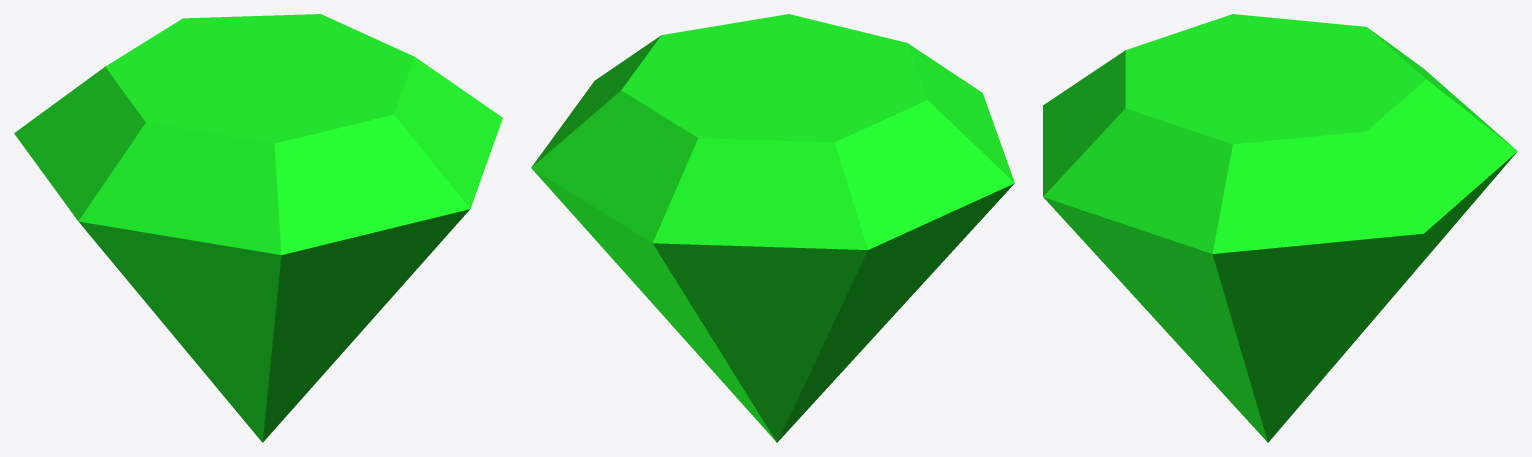
File: gem1.fbx
3 views of the same model, side by side, from view 1: azimuth 30°, elevation 25°; view 2: azimuth 150°, elevation 25°; view 3: azimuth 270°, elevation 25° (orthographic).
Parts seen in each view (by area): view 1: Gem1; view 2: Gem1; view 3: Gem1.
Part boxes in pixels (<box>): Gem1: <box>14,14,502,442</box>; Gem1: <box>531,14,1014,442</box>; Gem1: <box>1043,14,1517,442</box>.
Size of the model in its own units: 195 by 161 by 190.
